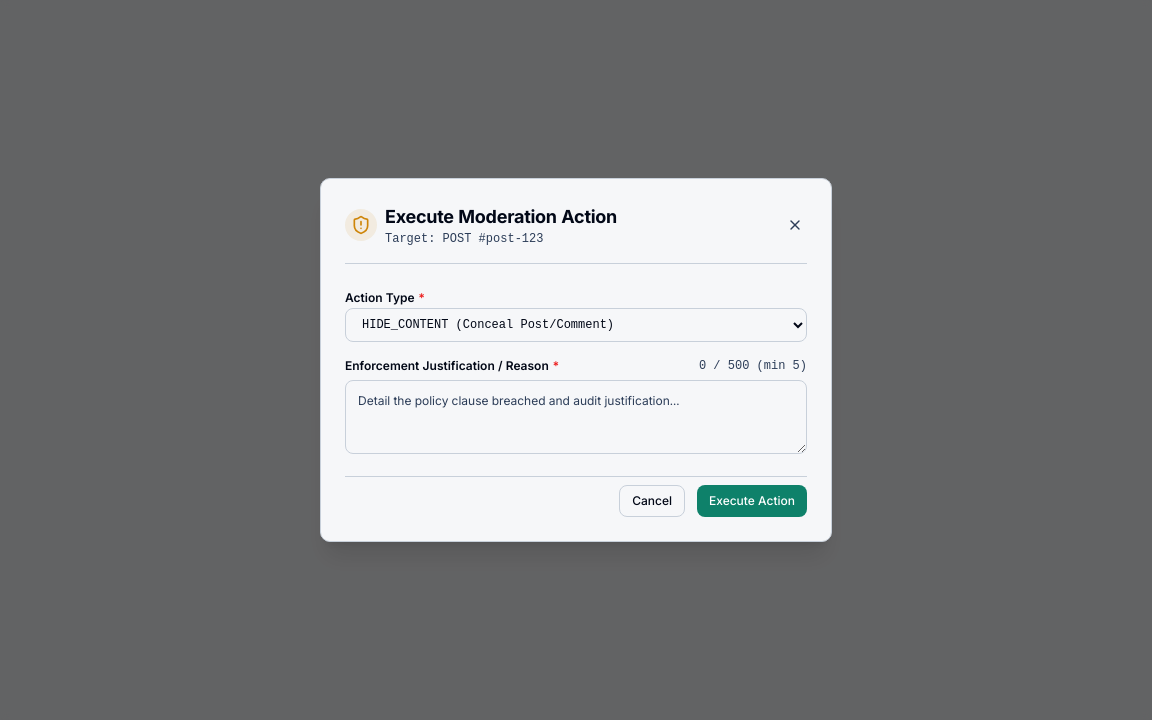
Scenario: ExecuteActionDialog Component › validates reason requirement and executes action
Type "Content violates platform spam guidelines." into the text box labelled "Enforcement Justification / Reason *" at (576, 417), box [345,380,807,454]
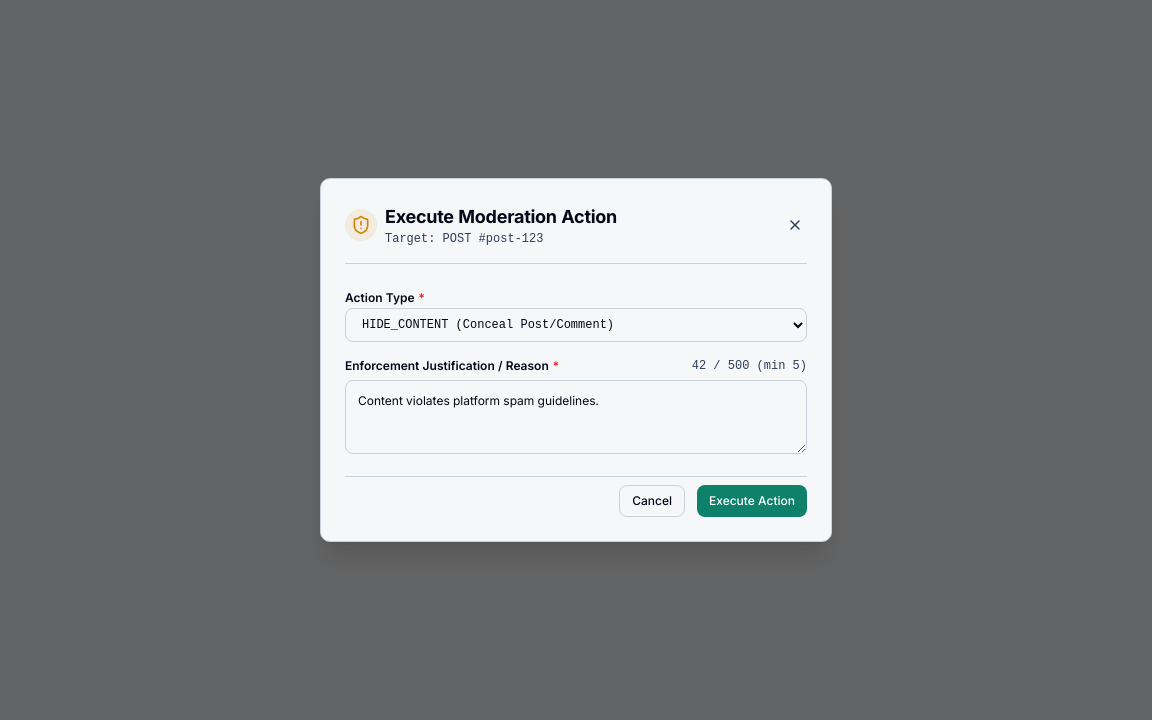
Click the button "Execute Action" at (752, 501), box [697,485,807,517]
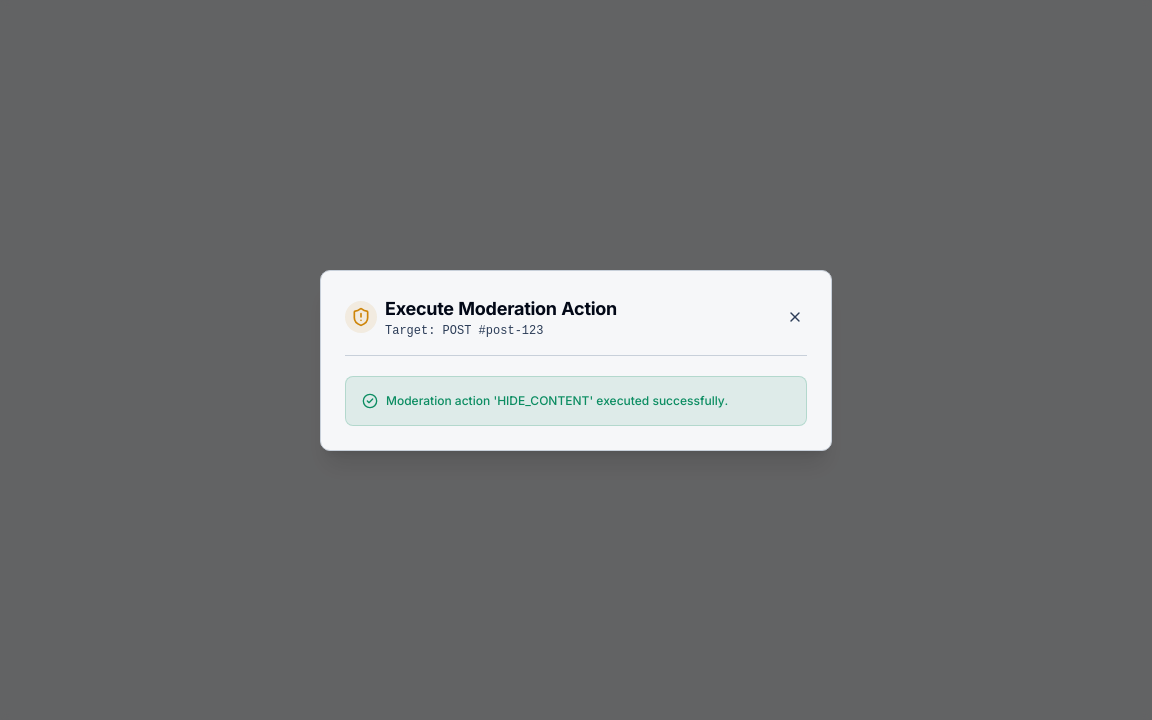
Expected: the text "Moderation action 'HIDE_CONTENT' executed successfully." is shown, [386,392,728,408]
